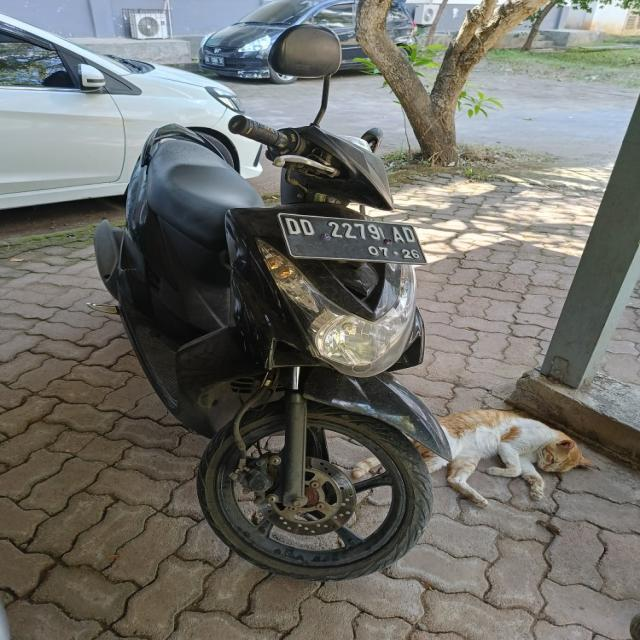plates: (269, 210, 433, 266)
